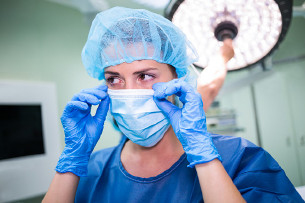face_mask: (100, 56, 171, 148)
